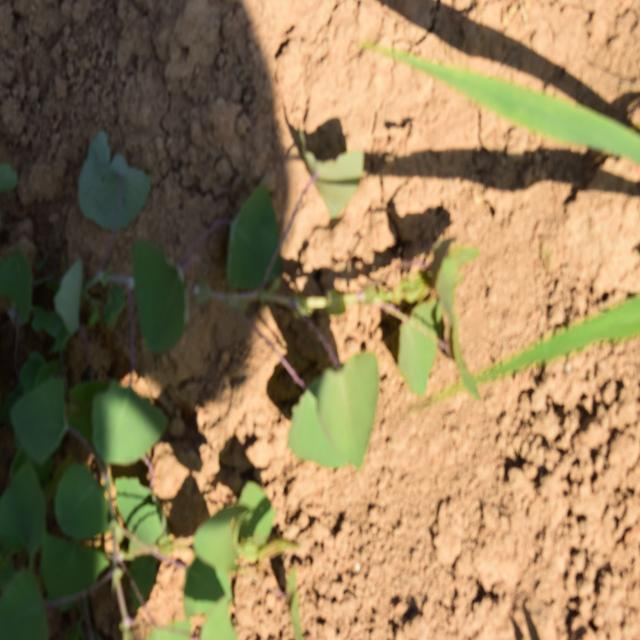Asiatic_Smartweed: (228, 132, 483, 465), (0, 383, 175, 591)
